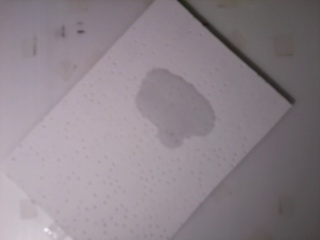Water_detected: (151, 75, 214, 135)
